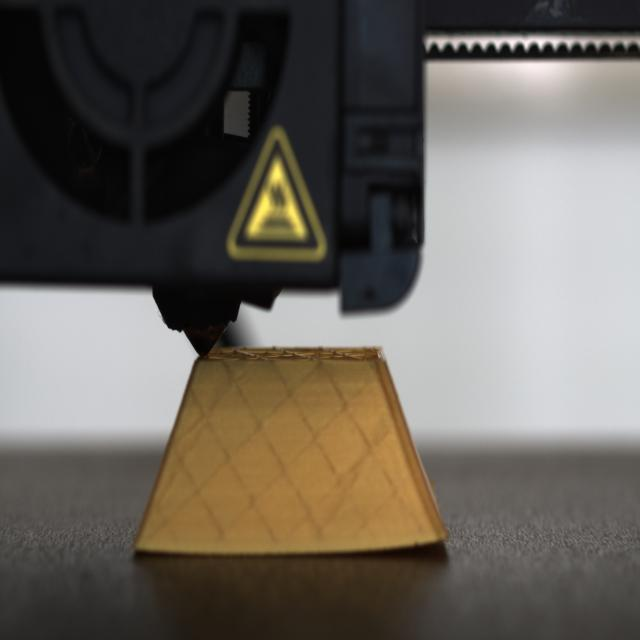Warping: (392, 528, 452, 560)
